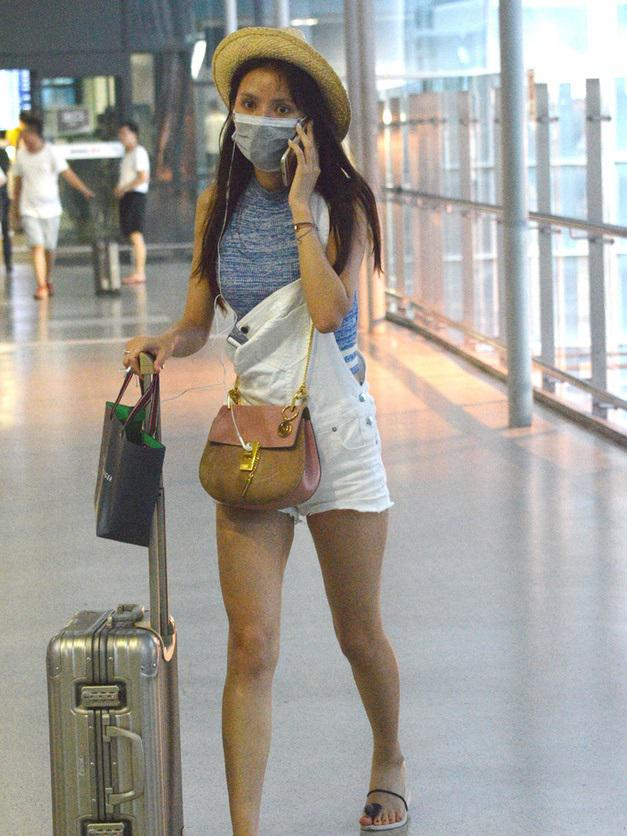OK: (233, 84, 317, 168)
